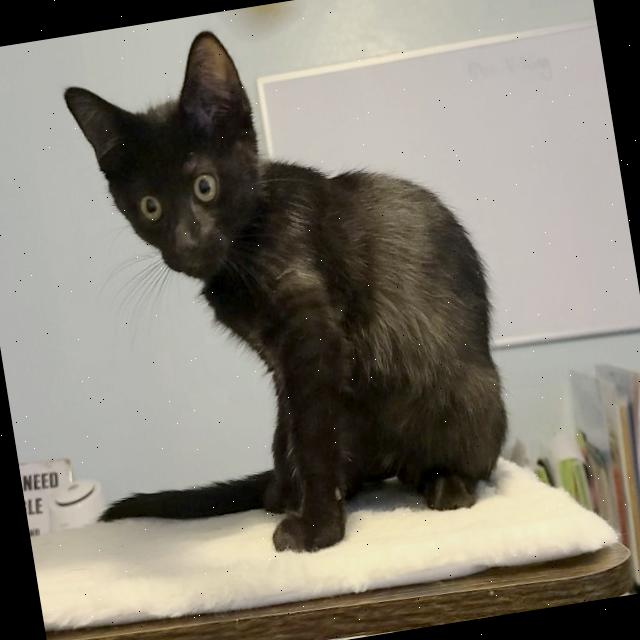bombay_cat: (50, 17, 290, 308)
